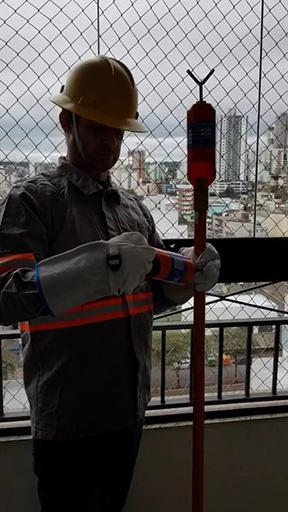Detector_Tensao_Contato: (185, 67, 217, 188)
Vara_Manobra: (190, 182, 210, 512)
